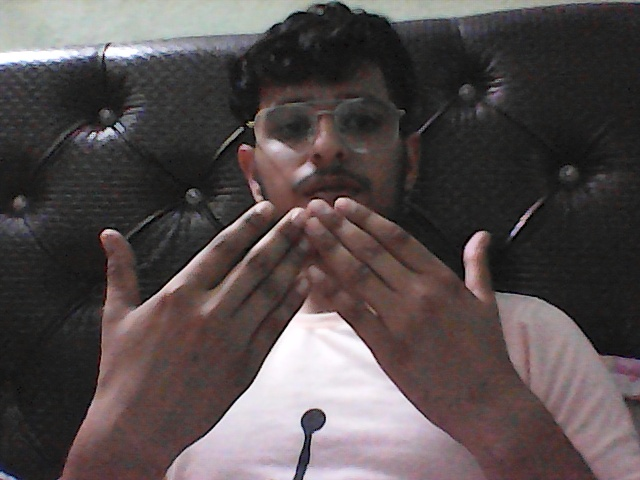thankyou: (31, 157, 527, 447)
